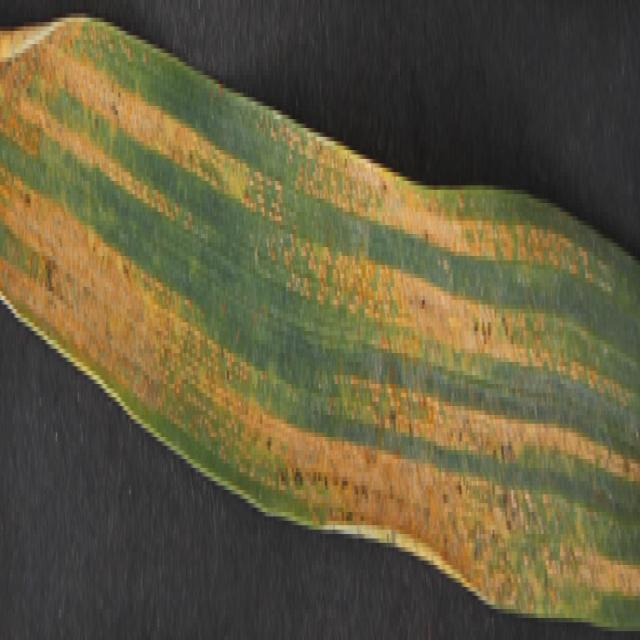leaf rust: (1, 4, 640, 592)
